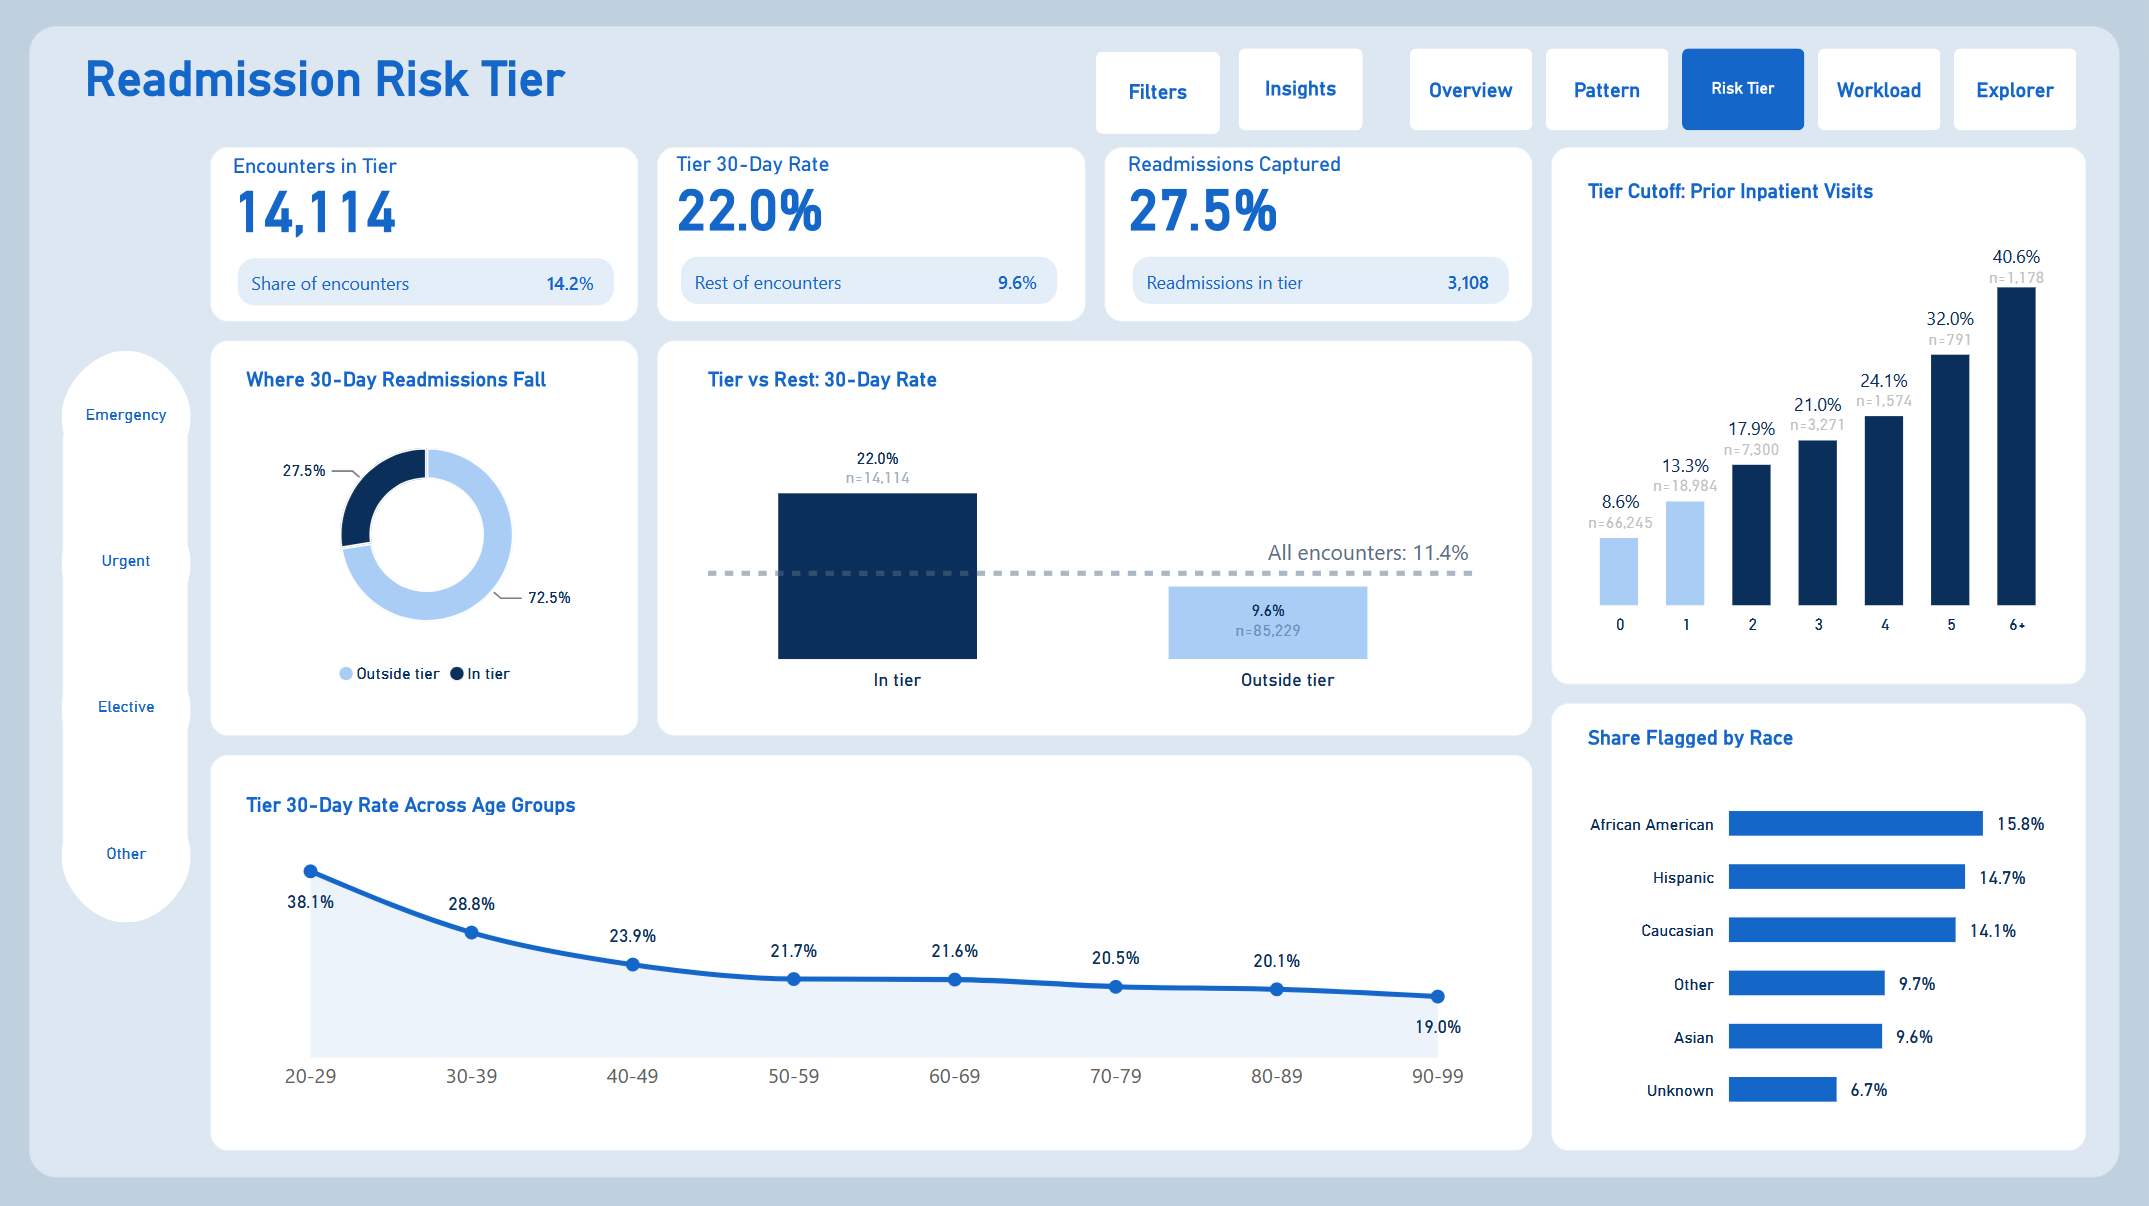

What the dashboard file says about the page in this screenshot:
{"tool":"powerbi","page":{"name":"Risk Tier","canvas":[1280,720],"ordinal":2},"visuals":[{"type":"textbox","box":[50.5,29.7,529.2,55],"z":0},{"type":"cardVisual","title":"Total Encounters","fields":{"Data":["_Measures.Tier Encounters Display"]},"box":[131,93,246,100],"z":1000},{"type":"donutChart","title":"Where 30-Day Readmissions Fall","fields":{"Category":["Encounters.Tier Status"],"Y":["_Measures.Readmissions 30"]},"box":[130.8,205.1,246.7,224.4],"z":2000},{"type":"clusteredColumnChart","title":"Tier Cutoff: Prior Inpatient Visits","fields":{"Category":["Encounters.Prior Visits Label"],"Y":["_Measures.Readmission Rate"]},"box":[929.7,93.5,307.6,302.5],"z":3000},{"type":"clusteredBarChart","title":"Share Flagged by Race","fields":{"Category":["Encounters.Race Label"],"Y":["_Measures.Tier Share"]},"box":[929.7,418.1,307.6,266.8],"z":4000},{"type":"cardVisual","title":"Total Encounters","fields":{"Data":["_Measures.Tier Rate"]},"box":[395.4,92.2,246,100],"z":5000},{"type":"cardVisual","title":"Total Encounters","fields":{"Data":["_Measures.Capture Rate"]},"box":[664.4,92.2,246,100],"z":6000},{"type":"clusteredColumnChart","title":"Tier vs Rest: 30-Day Rate","fields":{"Category":["Encounters.Tier Status"],"Y":["_Measures.Readmission Rate"]},"box":[405.8,205.1,490.5,224.4],"z":7000},{"type":"lineChart","title":"Tier 30-Day Rate Across Age Groups","fields":{"Category":["Encounters.age_band"],"Y":["_Measures.Tier Rate"]},"box":[130.8,457.8,780.4,211.1],"z":8000},{"type":"pageNavigator","box":[839.6,28.9,397.7,49.3],"z":9000},{"type":"actionButton","title":"Insight","box":[737.6,28.9,74.8,49.3],"z":11000},{"type":"actionButton","title":"Filter","box":[652.6,30.6,74.8,49.3],"z":12000},{"type":"advancedSlicerVisual","fields":{"Values":["Admission Type.Admission Strip"]},"box":[39,209,74,343],"z":14000}]}

Visuals, with their boxes in screenshot pixels (x1, y1, x2, y2), scaled from the page's 1280x720 canvas onto the 2149x1206 screenshot:
textbox: (85, 50, 973, 142)
"Total Encounters" cardVisual: (220, 156, 633, 323)
"Where 30-Day Readmissions Fall" donutChart: (220, 344, 634, 719)
"Tier Cutoff: Prior Inpatient Visits" clusteredColumnChart: (1561, 157, 2077, 663)
"Share Flagged by Race" clusteredBarChart: (1561, 700, 2077, 1147)
"Total Encounters" cardVisual: (664, 154, 1077, 322)
"Total Encounters" cardVisual: (1115, 154, 1528, 322)
"Tier vs Rest: 30-Day Rate" clusteredColumnChart: (681, 344, 1505, 719)
"Tier 30-Day Rate Across Age Groups" lineChart: (220, 767, 1530, 1120)
pageNavigator: (1410, 48, 2077, 131)
"Insight" actionButton: (1238, 48, 1364, 131)
"Filter" actionButton: (1096, 51, 1221, 134)
advancedSlicerVisual - Admission Type.Admission Strip: (65, 350, 190, 925)
